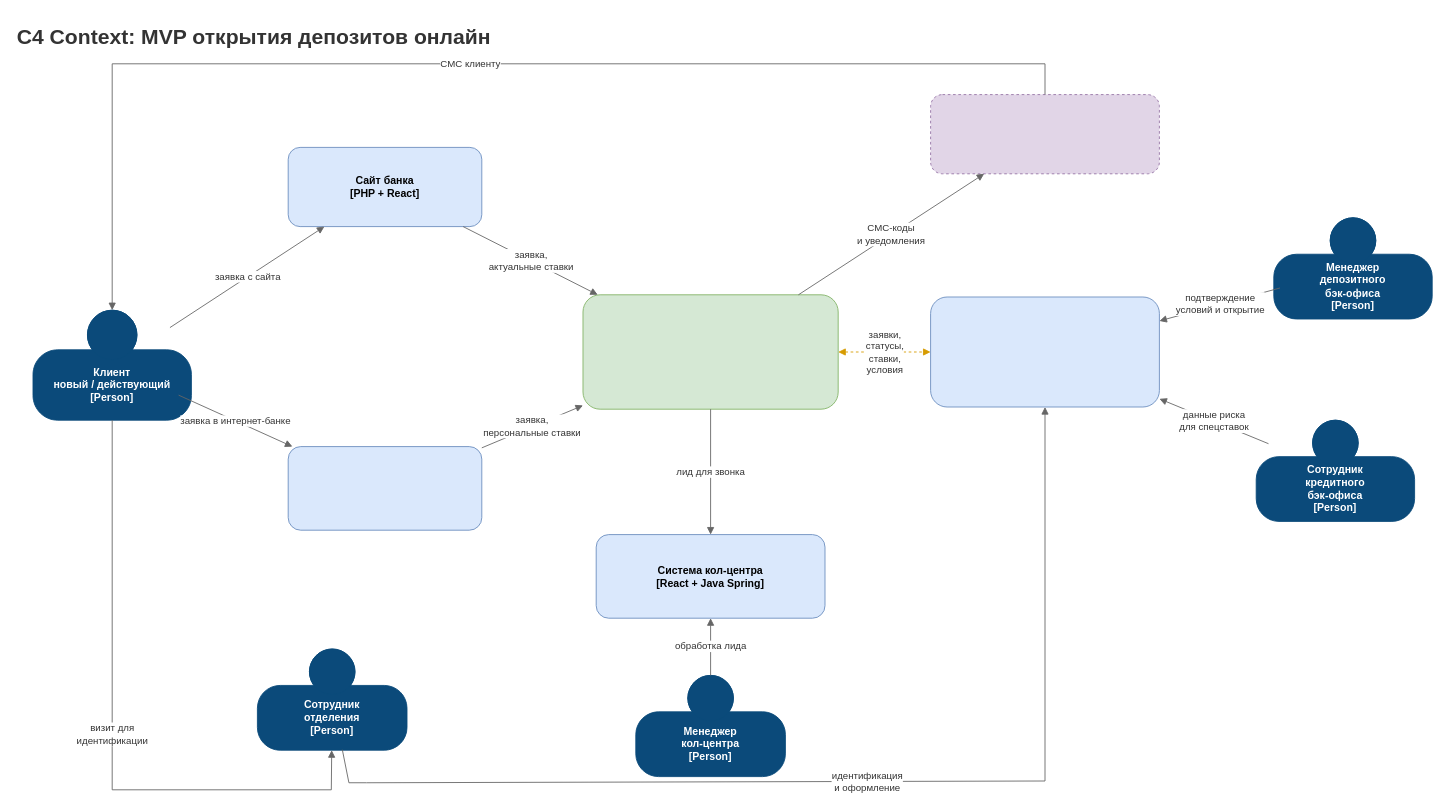
The diagram is 1448 pixels wide and 812 high, and some of its shapes have lost their labels. The box of each missing label's shape, as (x1, y1, x2, y2) in pixels:
SMS-шлюз телеком-оператора: (930, 94, 1159, 174)
АБС [Oracle / PL-SQL]: (930, 296, 1159, 407)
Интернет-банк [ASP.NET MVC / MS SQL]: (287, 446, 482, 530)
Сервис депозитных заявок MVP [новый контур банка]: (582, 294, 838, 409)
